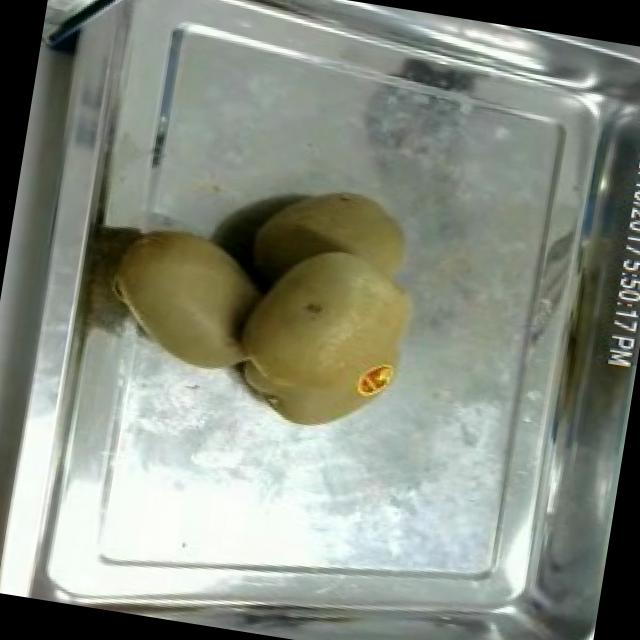Fruit: (218, 168, 444, 452), (92, 212, 278, 386)
